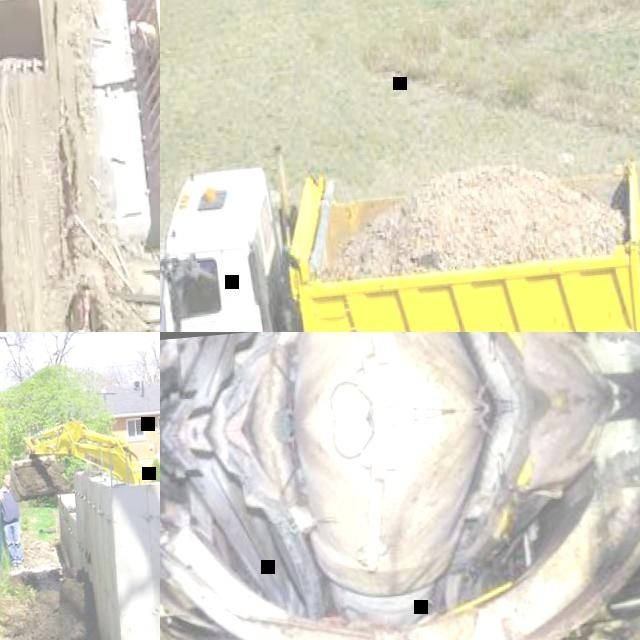Hardhat: (128, 19, 136, 33)
NO-Hardhat: (2, 472, 12, 480)
NO-Mask: (3, 481, 12, 487)
NO-Safety Vest: (0, 485, 23, 523)
Person: (0, 470, 27, 566), (63, 277, 99, 332), (128, 16, 159, 55)
machinery: (160, 125, 640, 332), (2, 410, 149, 505), (0, 0, 51, 83)
